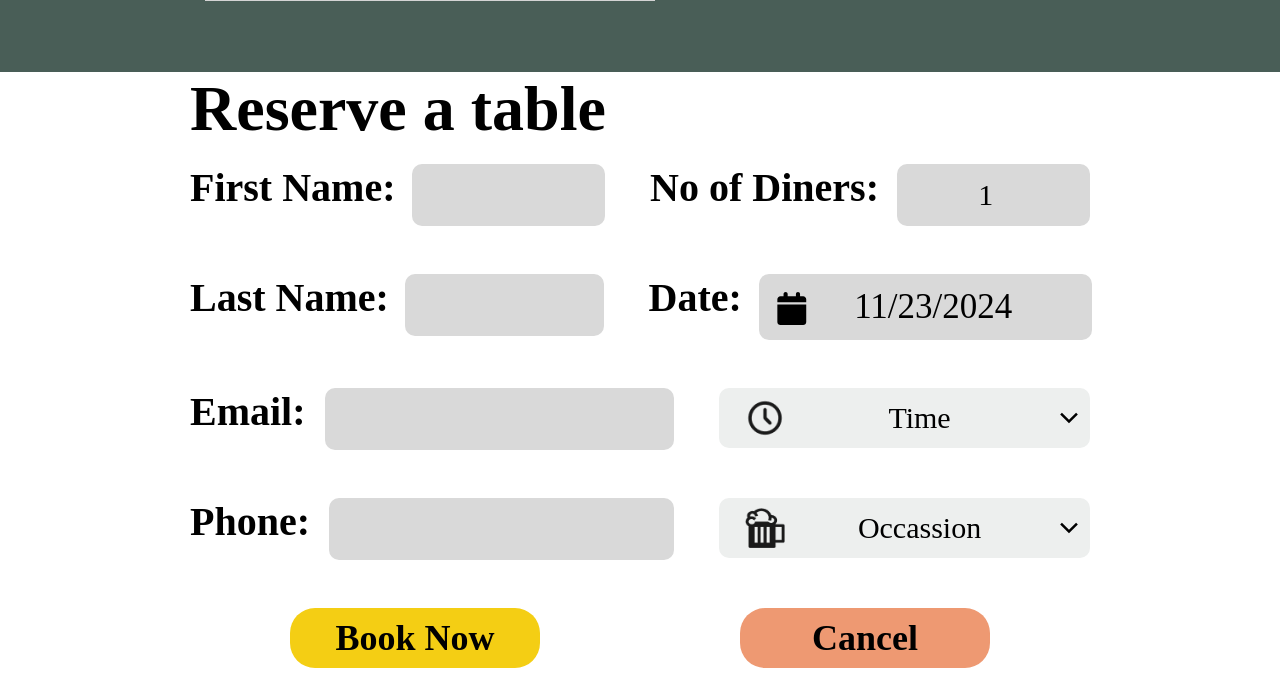
Test: Phone validation › Phone too long
(page scrolled)
In the field labelled "Phone:": (502, 529) [329, 498, 674, 560], type "11111111111"
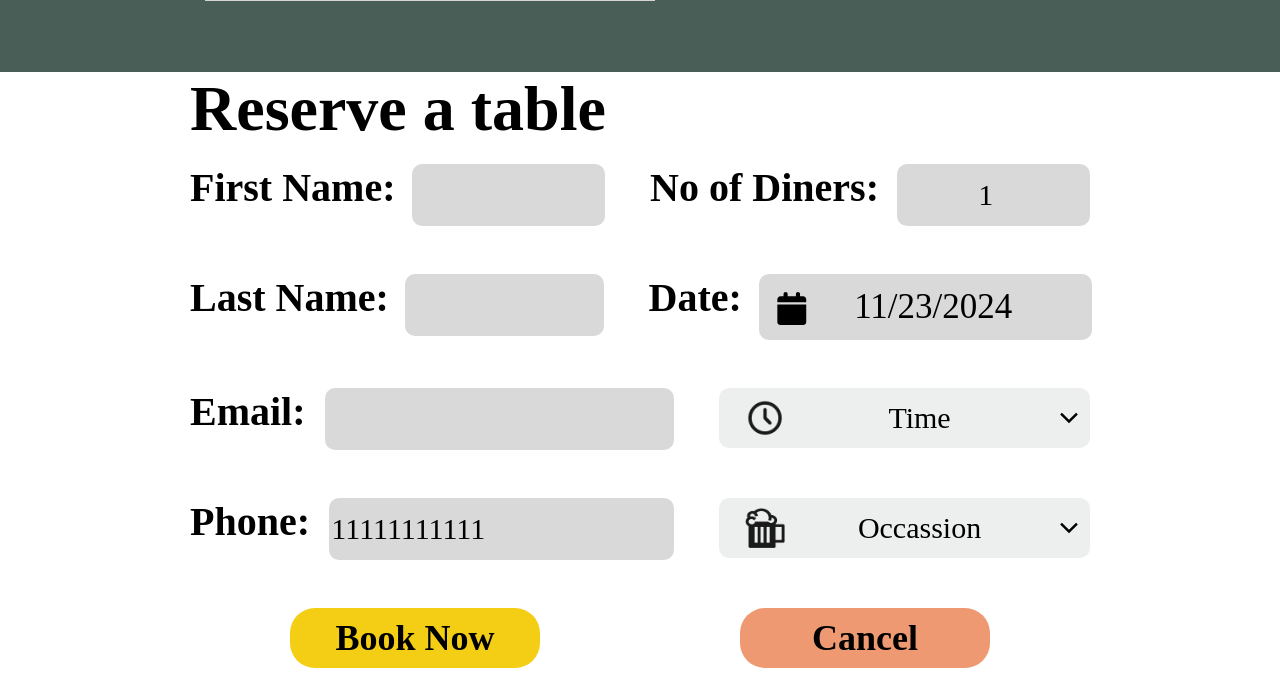
Click the button with aria-label "On Click form submit to complete booking": (415, 638) [290, 608, 540, 668]
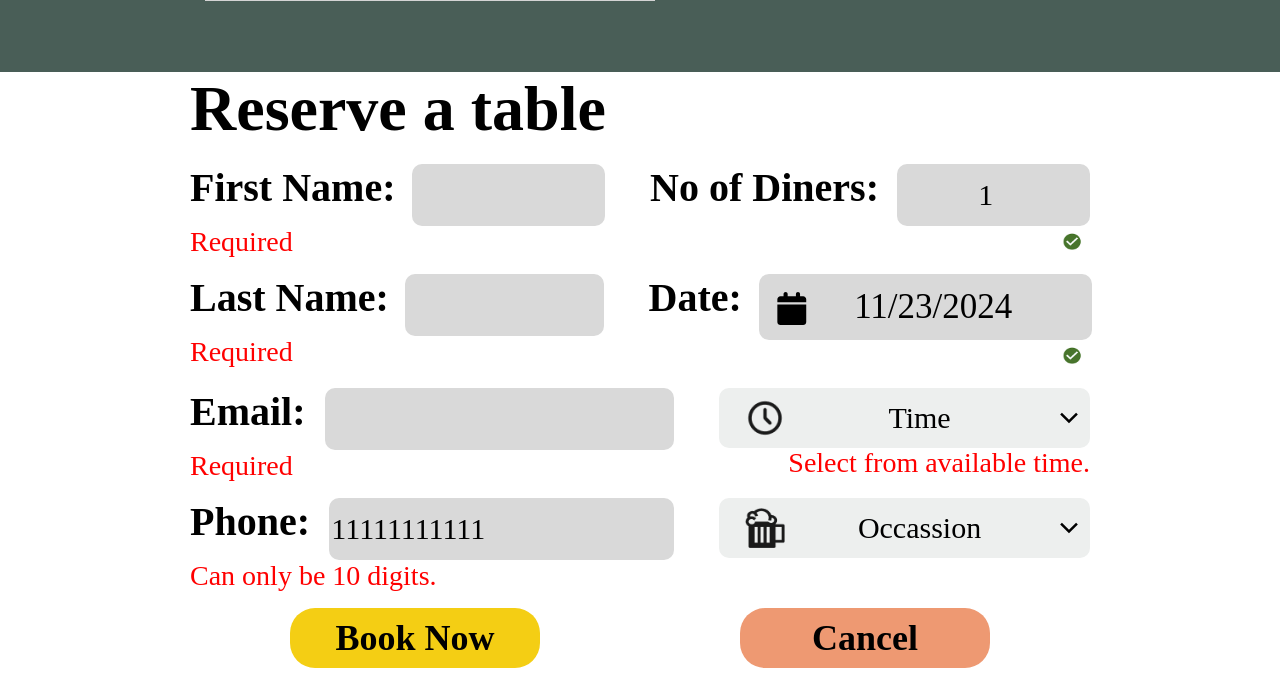
Expected: the text "Can only be 10 digits." is shown, [190, 560, 436, 591]
